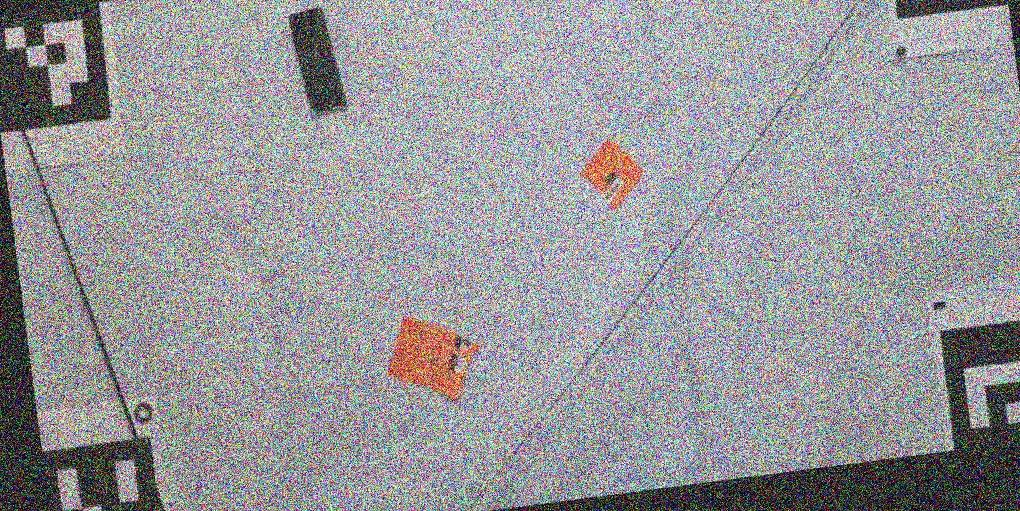obstacle: (385, 318, 483, 401), (288, 7, 347, 115), (579, 141, 645, 208)
